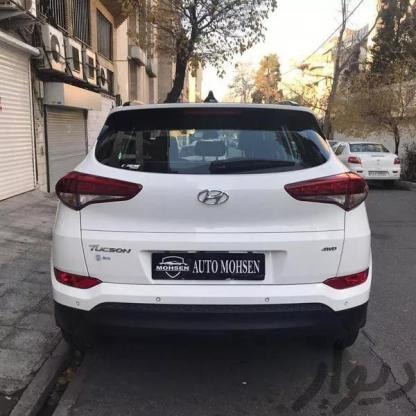Car: (15, 94, 379, 356), (324, 126, 398, 193)
